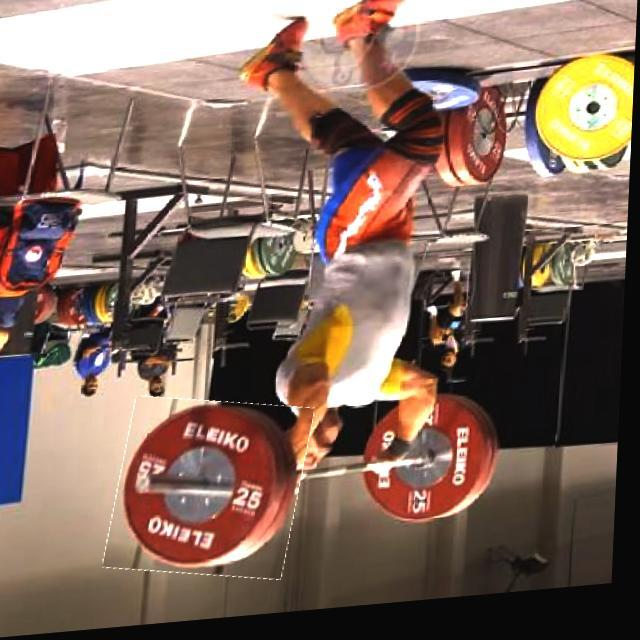barbell: (114, 395, 314, 592)
